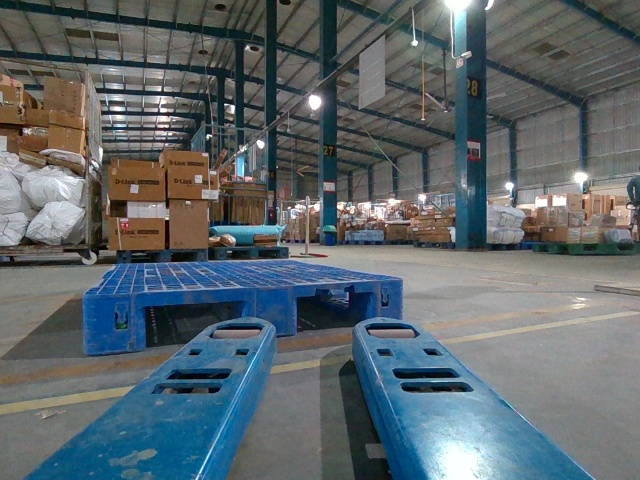block: (79, 292, 147, 354), (240, 285, 302, 339), (367, 277, 402, 318)
front: (82, 278, 401, 353)
hole pallet: (145, 296, 247, 349), (296, 289, 377, 335)
